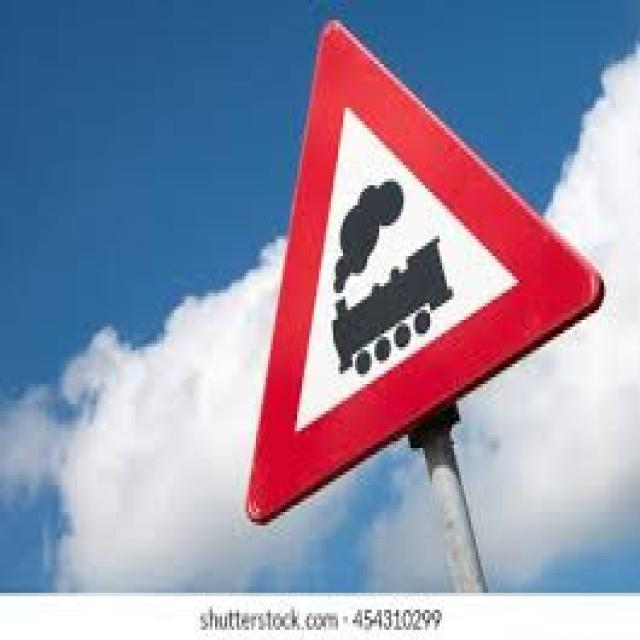unguarded level crossing: (247, 29, 606, 508)
